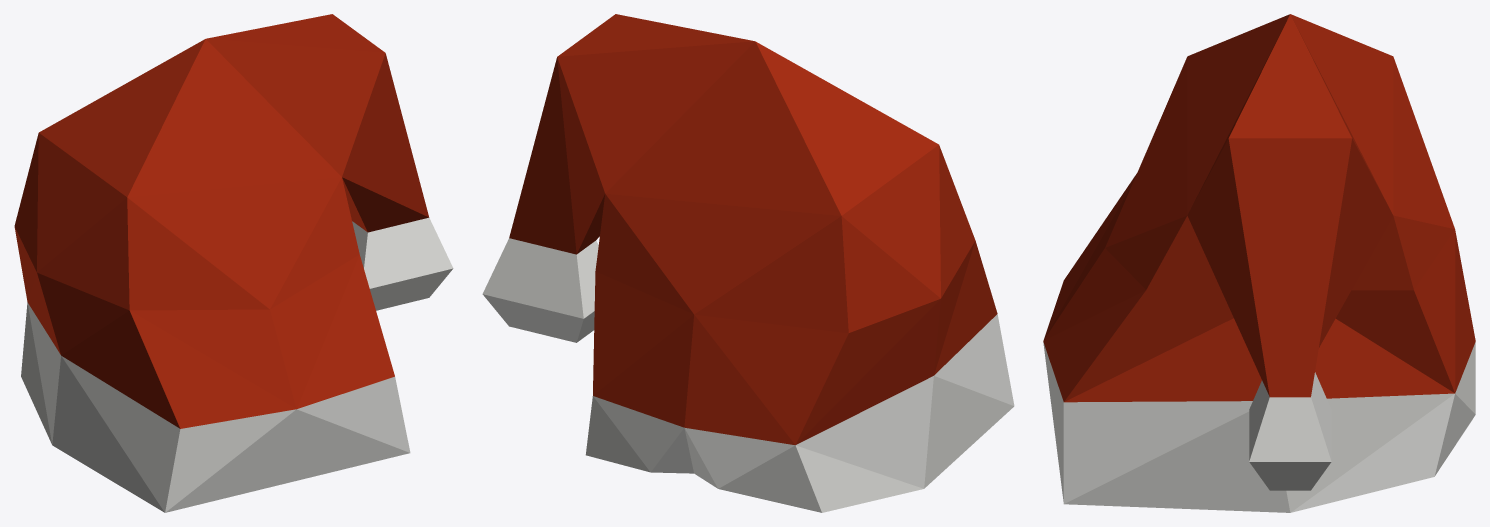
The model's file is itm_model0_santa_hat.obj.
3 renders of one model, left to right at view 1: azimuth 30°, elevation 25°; view 2: azimuth 150°, elevation 25°; view 3: azimuth 270°, elevation 25°, orthographic. The views are drawn at different scales.
Size of the model in its own units: 0.2031 by 0.1797 by 0.1641.
